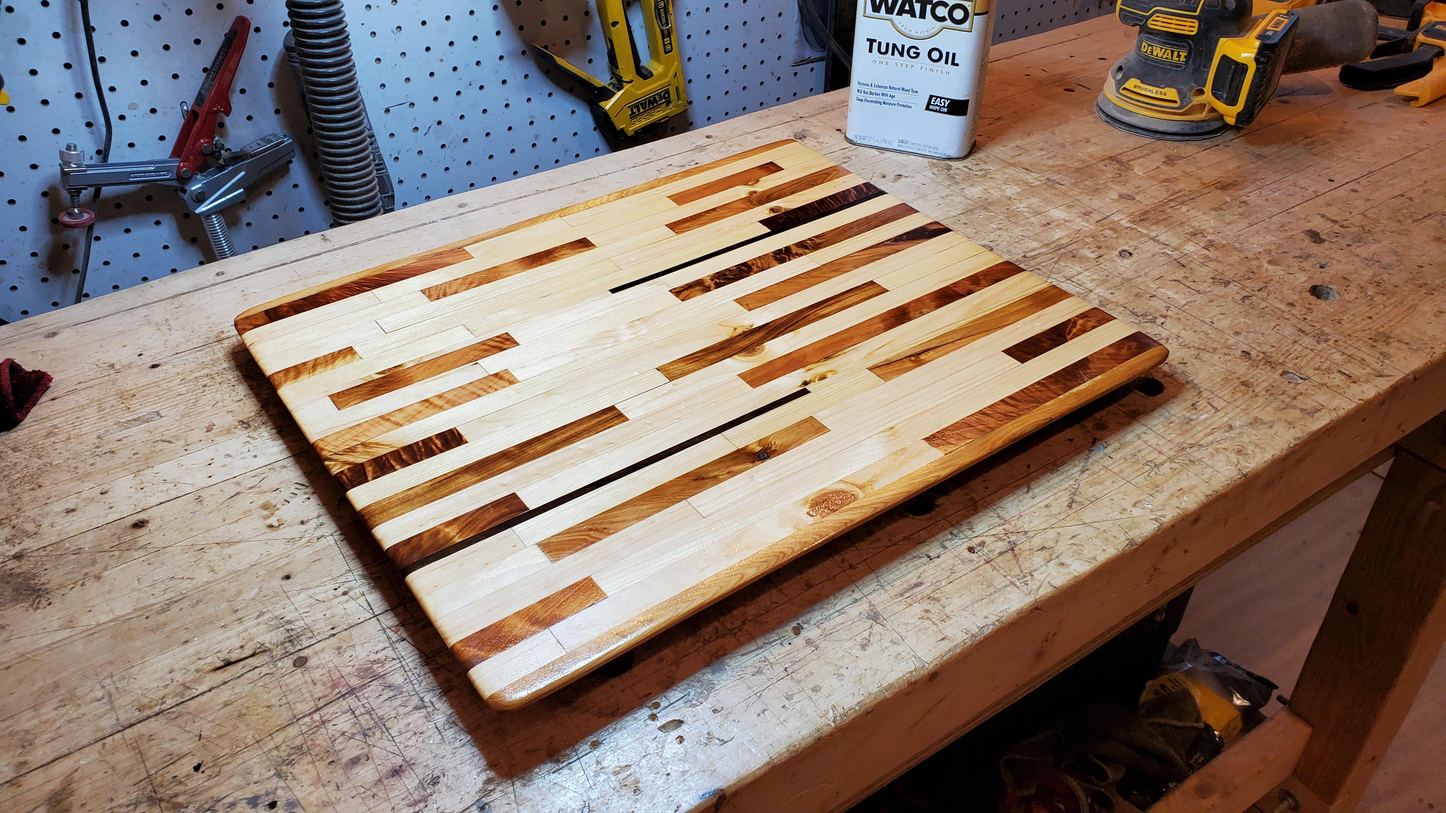gloved_hand: (228, 140, 1168, 722)
